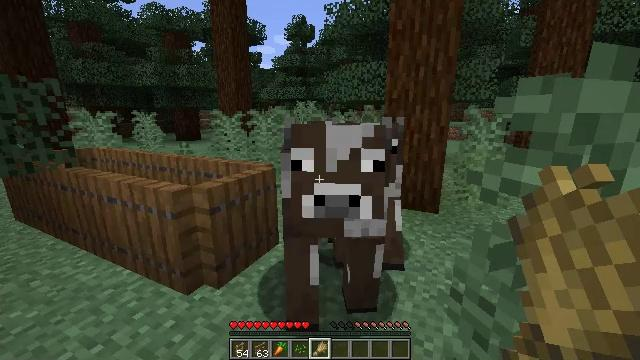cow: (282, 127, 402, 325)
